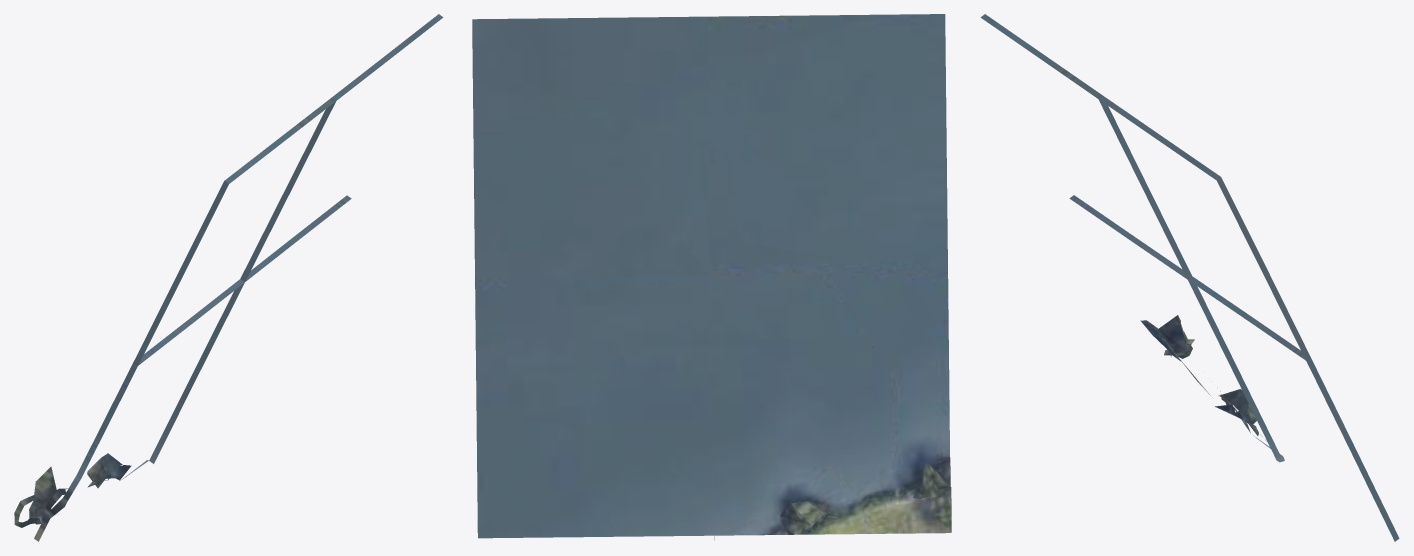
3 renders of one model, left to right at view 1: azimuth 30°, elevation 25°; view 2: azimuth 150°, elevation 25°; view 3: azimuth 270°, elevation 25°, orthographic. The views are drawn at different scales.
Bounding box in the file's own units: 158 × 140 × 129.
Materials: 1 (1 with a texture image).
